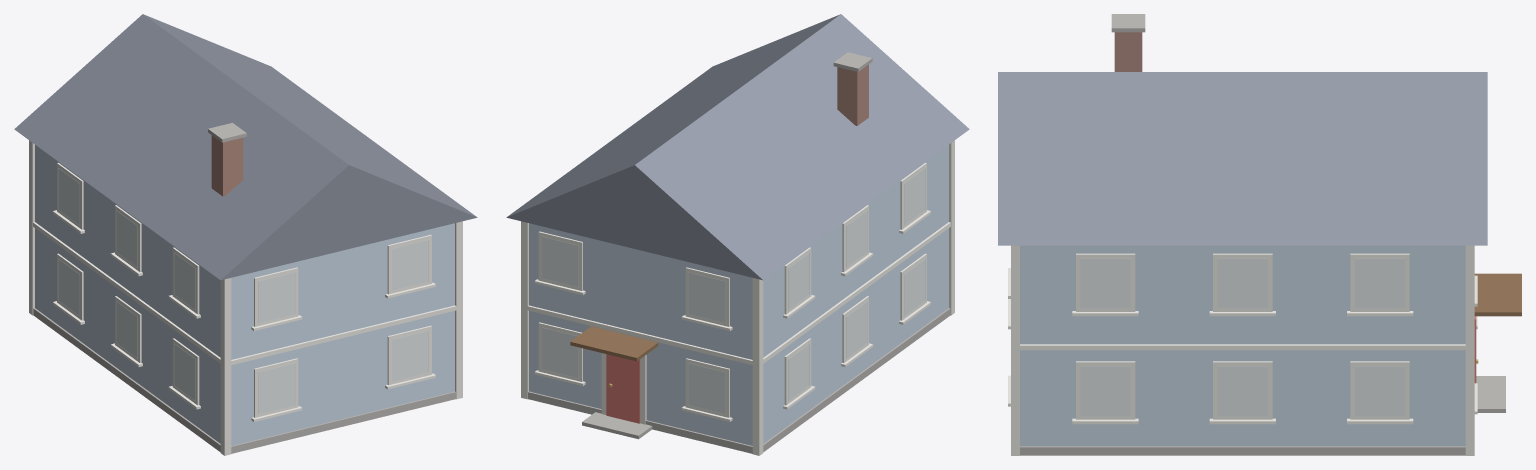
File: townhouse_b.glb
3 renders of one model, left to right at view 1: azimuth 30°, elevation 25°; view 2: azimuth 150°, elevation 25°; view 3: azimuth 270°, elevation 25°, orthographic. The views are drawn at different scales.
Visible parts, largest first — view 1: body, roof; view 2: body, roof; view 3: body, roof.
Part boxes in pixels (<box>): body: <box>29,140,462,455</box>; roof: <box>14,14,477,280</box>; body: <box>521,140,954,455</box>; roof: <box>506,14,969,280</box>; body: <box>1008,245,1521,455</box>; roof: <box>998,14,1487,245</box>.
Size of the model in its own units: 7.7 by 7.89 by 11.45.
